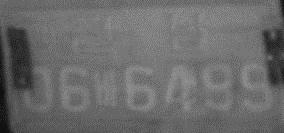0: (20, 66, 54, 112)
4: (163, 63, 196, 112)
6: (124, 62, 158, 113), (58, 64, 89, 113)
9: (200, 60, 235, 112), (240, 61, 275, 113)
바: (92, 68, 120, 109)
영: (19, 17, 58, 54)
전남_D: (68, 11, 207, 57)
